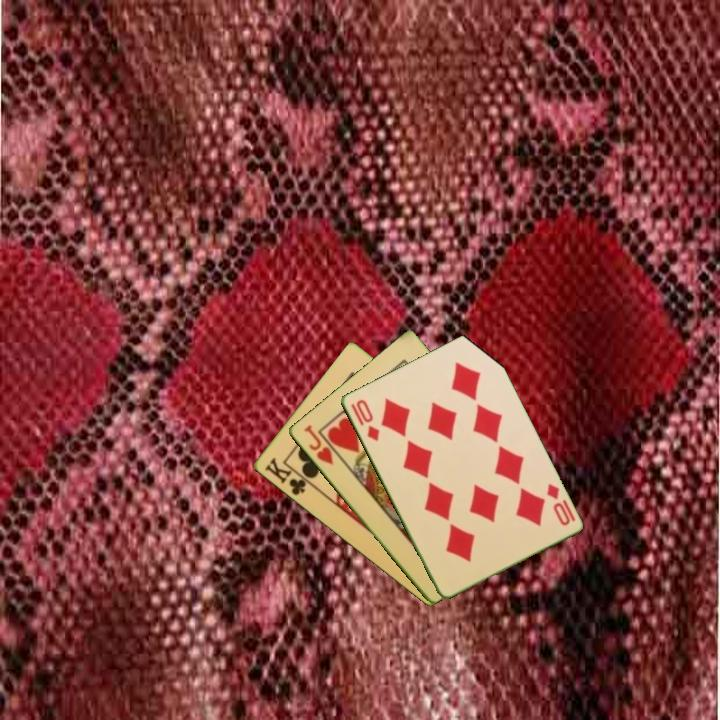10d: (347, 396, 382, 444), (542, 479, 573, 529)
Jh: (300, 421, 336, 467)
Kc: (261, 454, 314, 499)
